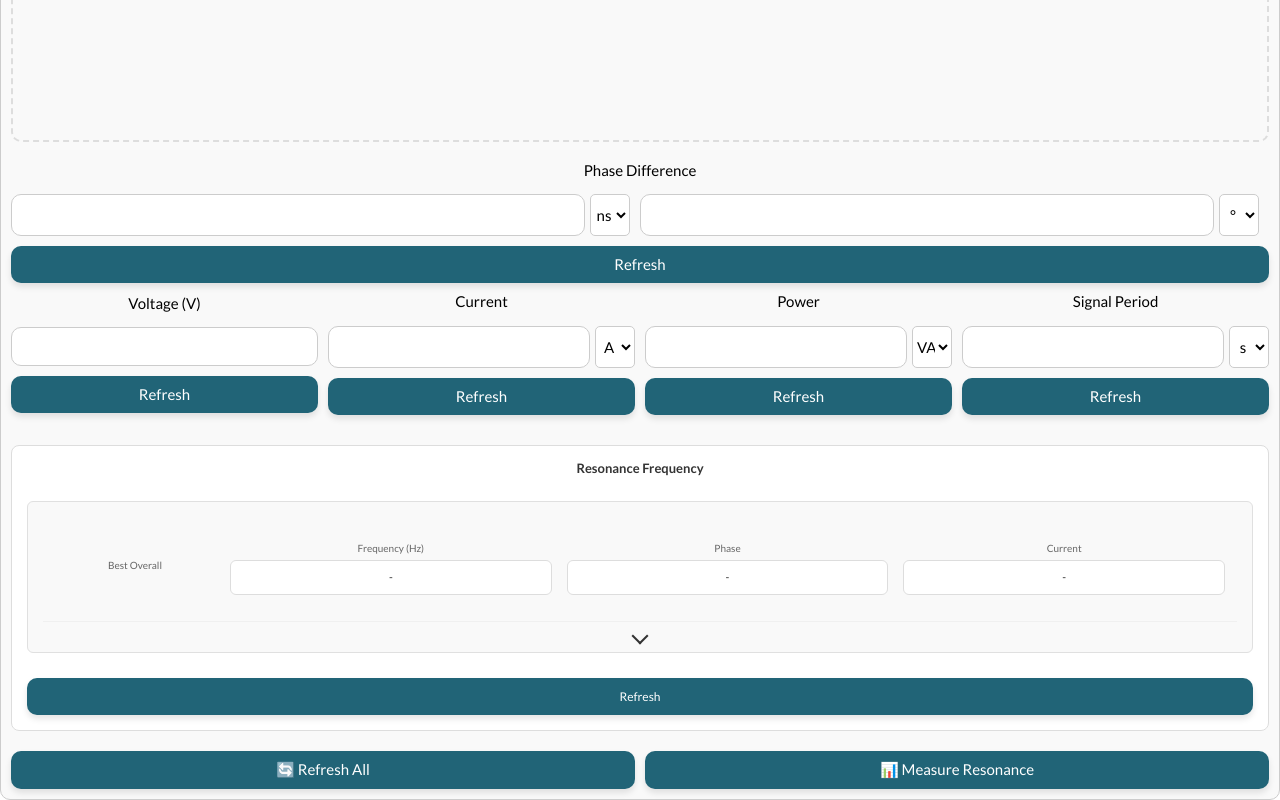
it: MonitoringPanel › fetches resonance frequency correctly
The width and height of the screenshot is (1280, 800).
(page scrolled)
Click the button "Refresh" below "Best Overall" at [640, 697], box x1=27 y1=678 x2=1253 y2=716
(page scrolled)
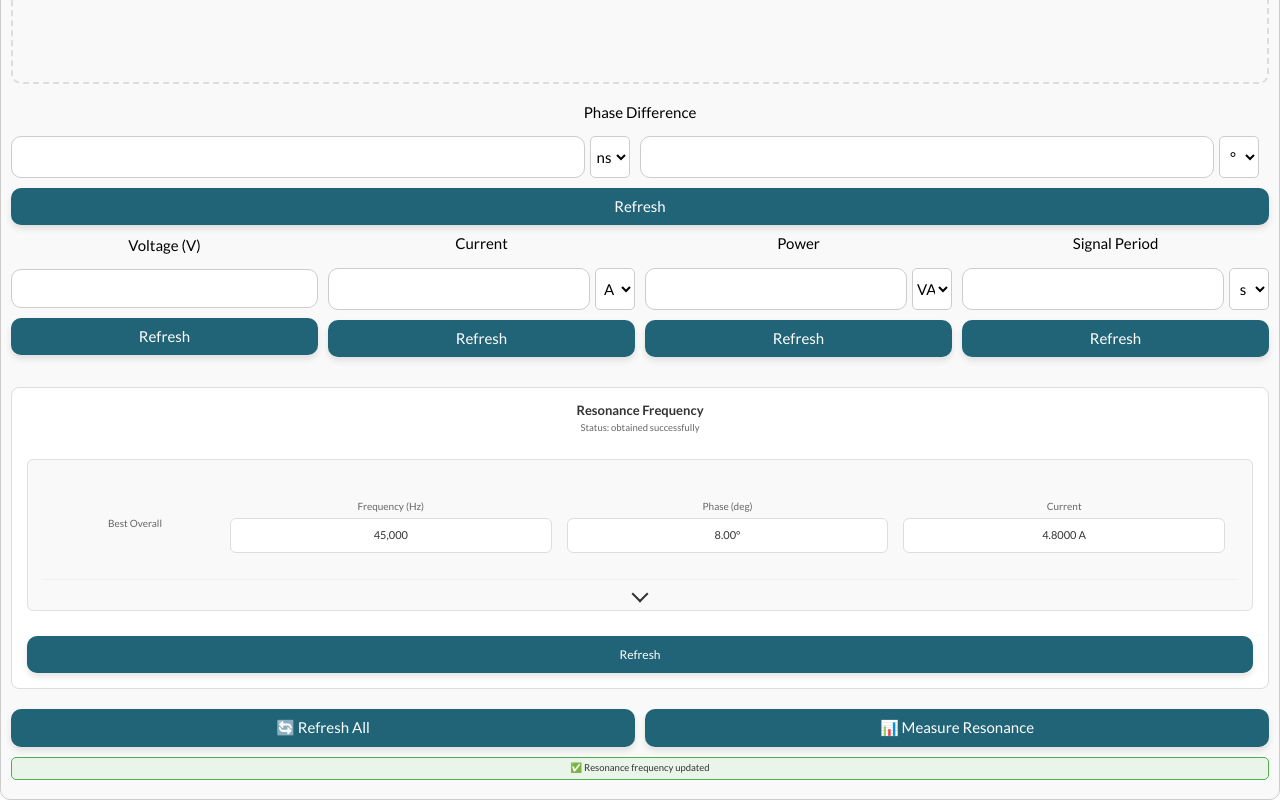
Check: the text "Status: obtained successfully" is shown, box x1=580 y1=423 x2=700 y2=434
Check: the text "✅ Resonance frequency updated" is shown, box x1=11 y1=757 x2=1269 y2=780
